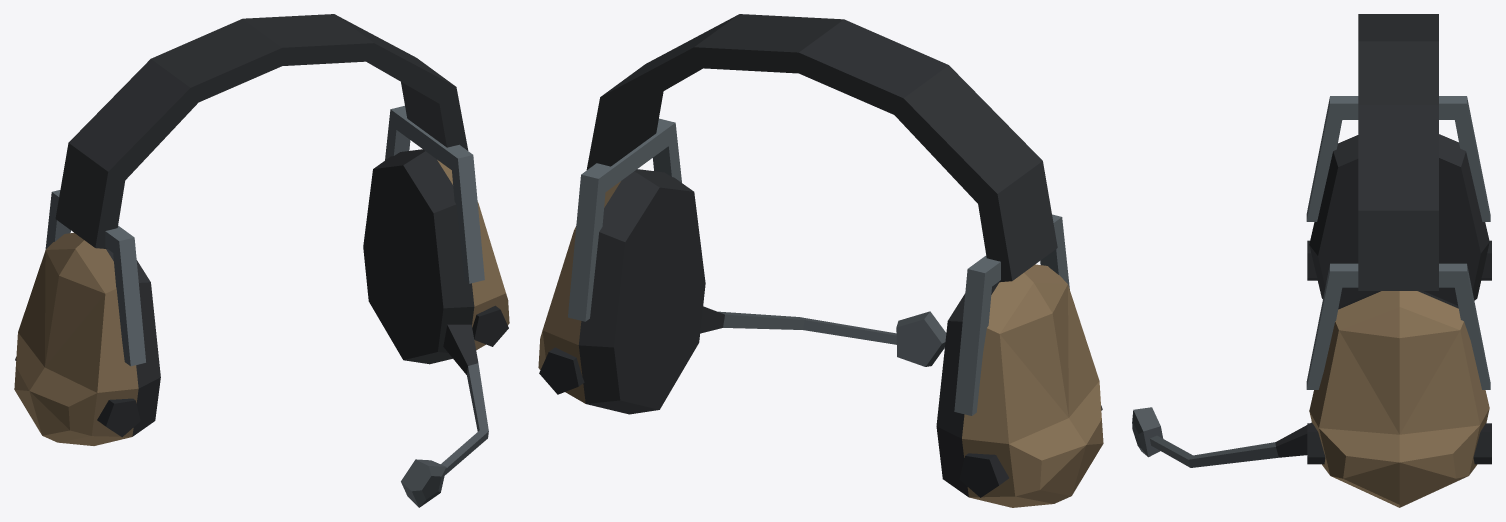
Rendered from SM_Chr_Attach_Earmuffs_01.fbx.
The picture shows the model from 3 angles, left to right: view 1: azimuth 30°, elevation 25°; view 2: azimuth 150°, elevation 25°; view 3: azimuth 270°, elevation 25°; orthographic projection. The views are drawn at different scales.
Visible parts, largest first — view 1: SM_Chr_Attach_Earmuffs_01; view 2: SM_Chr_Attach_Earmuffs_01; view 3: SM_Chr_Attach_Earmuffs_01.
Boxes of the visible parts, <box> form: SM_Chr_Attach_Earmuffs_01: <box>14,14,509,507</box>; SM_Chr_Attach_Earmuffs_01: <box>538,14,1103,507</box>; SM_Chr_Attach_Earmuffs_01: <box>1132,14,1491,507</box>.
Size of the model in its own units: 34.21 by 27.37 by 22.58.
